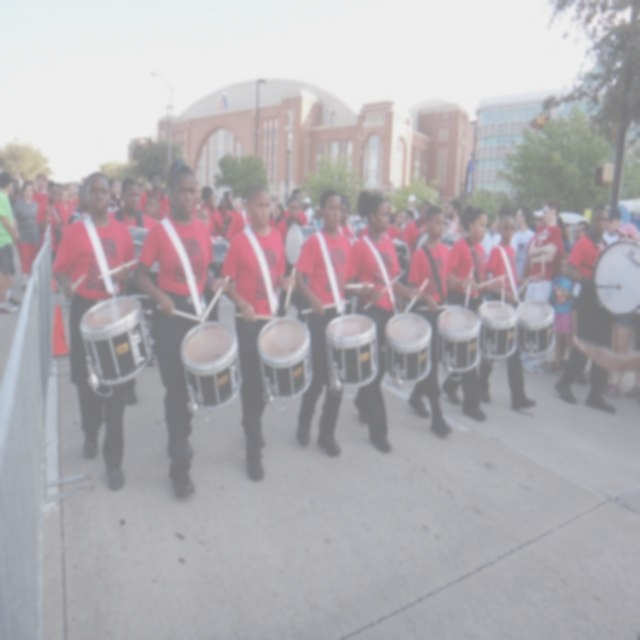pessoa: (131, 154, 232, 504), (51, 170, 138, 492), (218, 181, 298, 484), (289, 186, 372, 459), (342, 188, 425, 457), (406, 204, 475, 437), (473, 204, 546, 416), (441, 205, 507, 424), (552, 204, 618, 416), (520, 196, 562, 374), (600, 222, 640, 399), (352, 202, 396, 355), (520, 208, 564, 306), (276, 194, 308, 325), (10, 178, 42, 295), (547, 253, 576, 376), (0, 172, 21, 314), (106, 176, 160, 230), (36, 179, 69, 267), (484, 208, 519, 282), (509, 205, 536, 290), (401, 200, 432, 267), (225, 185, 254, 246), (138, 170, 172, 220), (198, 185, 230, 238), (31, 172, 50, 257), (60, 184, 90, 235), (192, 180, 214, 235), (626, 322, 640, 408), (283, 187, 310, 227), (443, 199, 462, 252), (338, 194, 356, 247), (216, 196, 236, 240), (602, 207, 622, 244), (386, 209, 406, 241), (550, 340, 572, 368), (6, 178, 24, 212), (570, 220, 590, 250), (556, 218, 572, 252), (480, 223, 496, 256), (402, 193, 420, 220), (145, 194, 161, 224), (58, 188, 74, 218), (454, 214, 469, 244), (76, 184, 89, 214), (217, 190, 234, 212), (110, 178, 122, 209), (302, 196, 314, 226), (66, 182, 78, 212), (308, 208, 324, 230), (194, 206, 210, 228), (108, 179, 119, 211), (267, 201, 278, 230), (402, 209, 416, 228), (74, 178, 86, 199), (386, 197, 394, 226), (232, 198, 242, 215), (580, 225, 592, 238), (138, 183, 148, 198), (270, 200, 278, 218), (310, 200, 322, 212), (212, 196, 222, 210), (54, 182, 66, 190), (426, 196, 434, 207), (512, 222, 518, 236), (240, 200, 247, 212), (282, 202, 289, 212), (299, 202, 305, 212), (230, 197, 235, 207), (271, 197, 278, 204), (200, 197, 204, 206)
